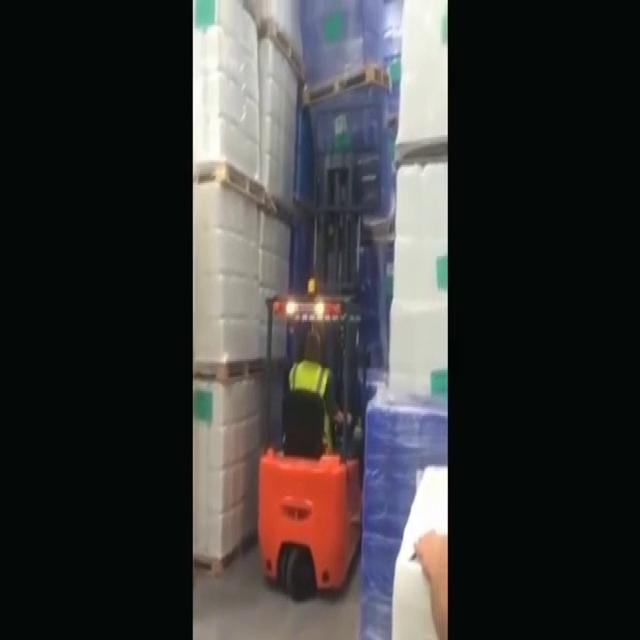forklift: (257, 274, 367, 598)
